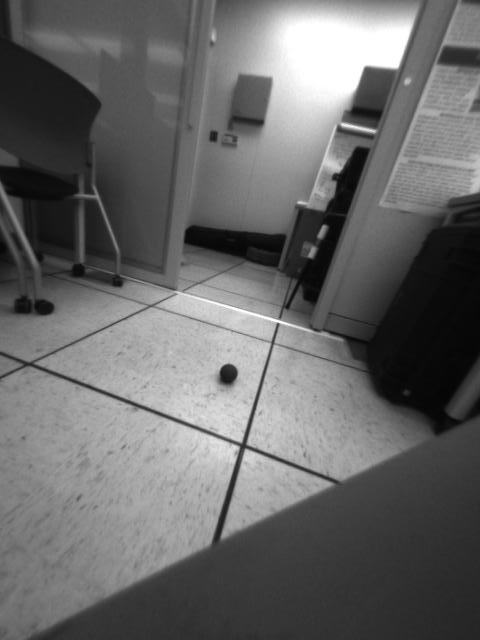dogtoy: (213, 356, 243, 390)
